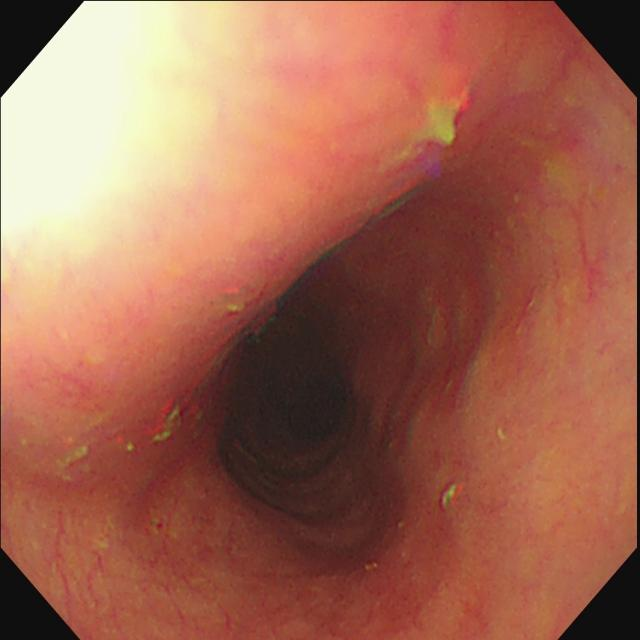E: (269, 349, 356, 473)
